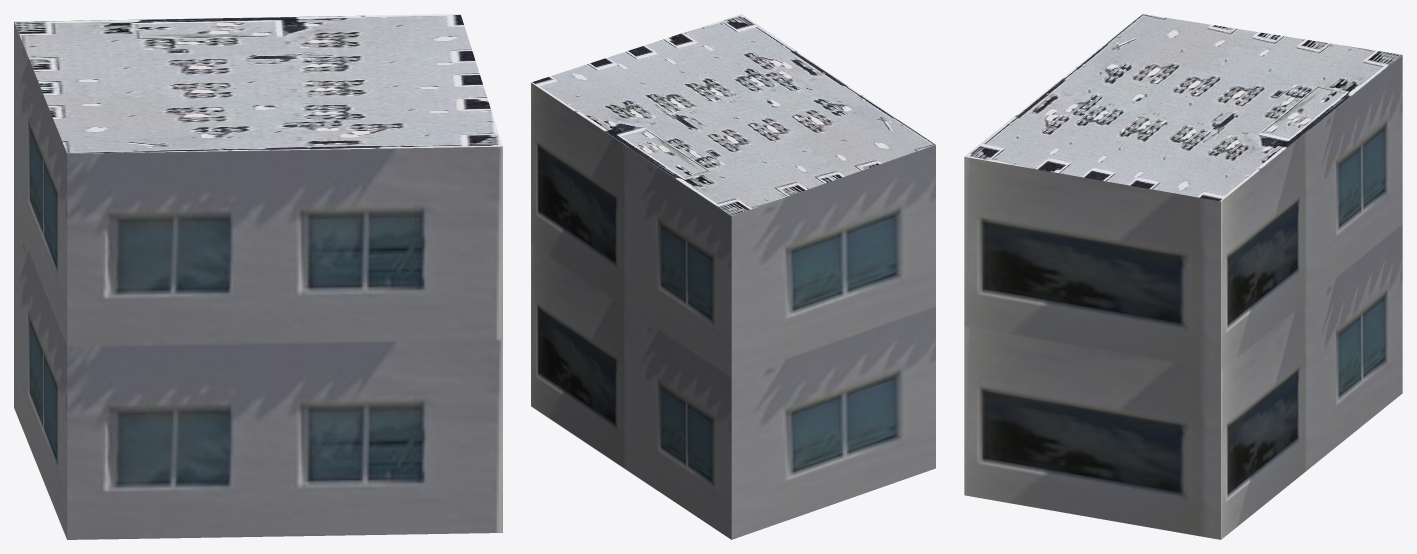
File: ResTex__691.fbx
3 views of the same model, side by side, from view 1: azimuth 30°, elevation 25°; view 2: azimuth 150°, elevation 25°; view 3: azimuth 270°, elevation 25° (orthographic). The views are drawn at different scales.
Visible parts, largest first — view 1: CityEngineMaterial_10_m, CityEngineMaterial_4_m; view 2: CityEngineMaterial_10_m, CityEngineMaterial_4_m; view 3: CityEngineMaterial_10_m, CityEngineMaterial_4_m.
Part boxes in pixels (box(x1,y1,x2,y2)): CityEngineMaterial_10_m: box(14, 22, 502, 539); CityEngineMaterial_4_m: box(14, 14, 502, 153); CityEngineMaterial_10_m: box(531, 83, 935, 539); CityEngineMaterial_4_m: box(531, 14, 935, 216); CityEngineMaterial_10_m: box(964, 55, 1402, 539); CityEngineMaterial_4_m: box(964, 14, 1402, 201).
Bounding box in the file's own units: 7.13 × 6 × 7.04.
2 materials, 2 textured.
